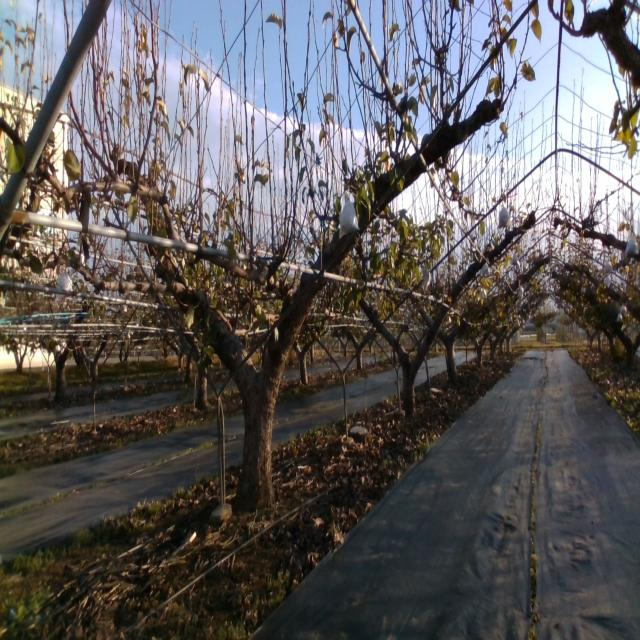pearbags: (338, 190, 361, 240), (623, 233, 640, 258), (497, 202, 512, 230)
